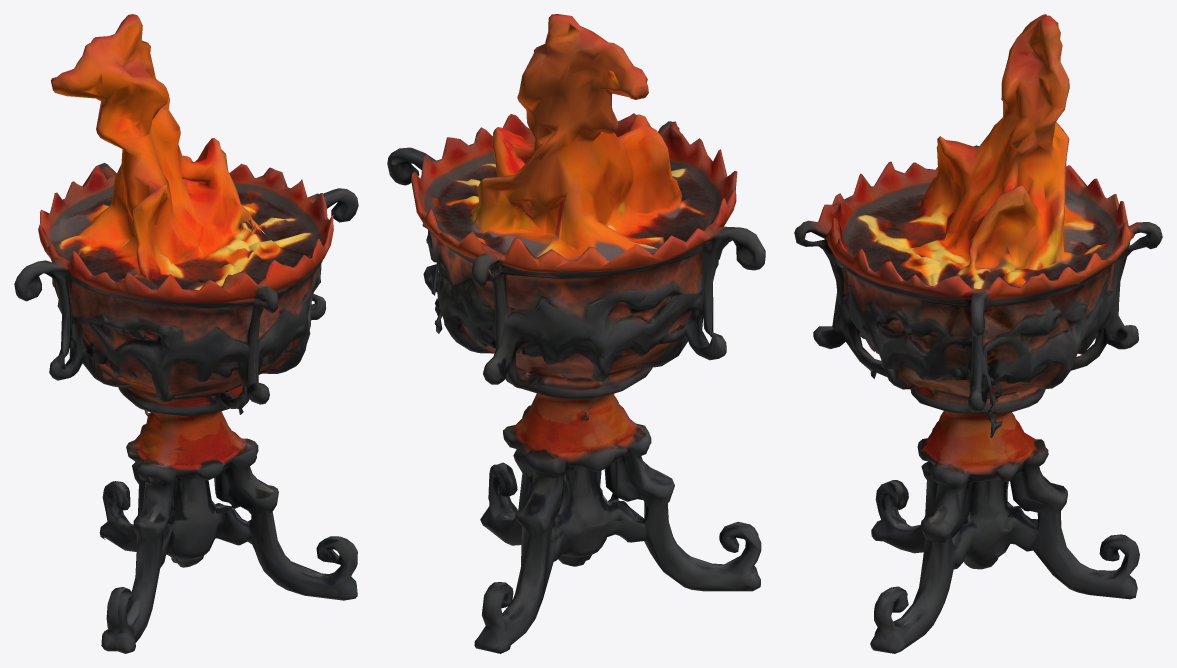
The model's file is brazier-torch.glb.
3 views of the same model, side by side, from view 1: azimuth 30°, elevation 25°; view 2: azimuth 150°, elevation 25°; view 3: azimuth 270°, elevation 25° (orthographic). The views are drawn at different scales.
Size of the model in its own units: 1.29 by 2 by 1.19.
1 material, 1 textured.
